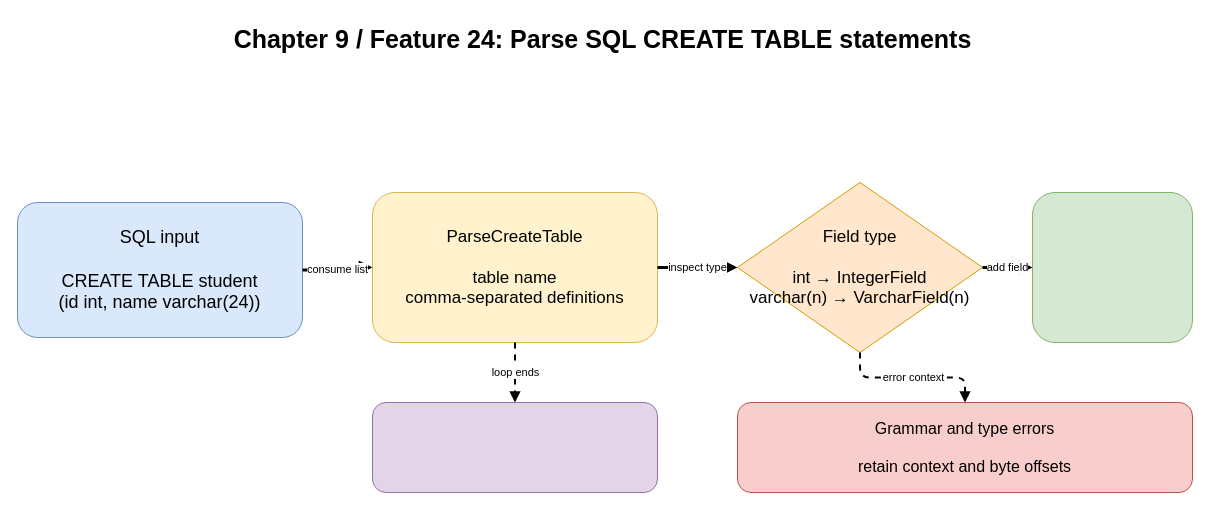
Image size: 1210x510. Some labels were removed from this diagram. Here are the shapes that lost their labels. From the top down, the centre of each, then its label:
the point at 1112,267: CreateTableData normalized table name ordered copied Schema
the point at 515,447: Following token stays available caller continues parsing
